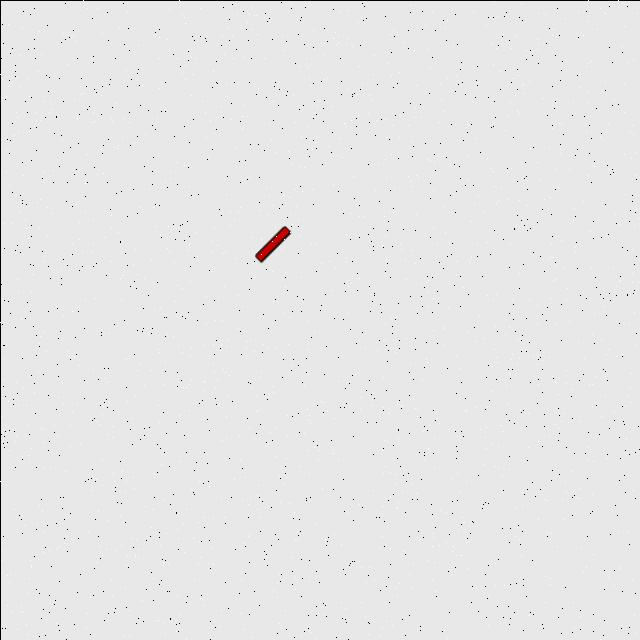3069b: (250, 222, 293, 264)
